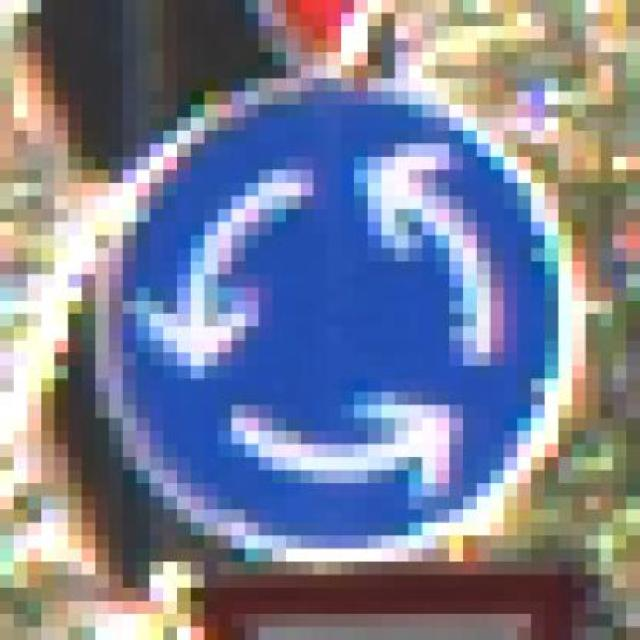Round-About: (82, 65, 586, 588)
